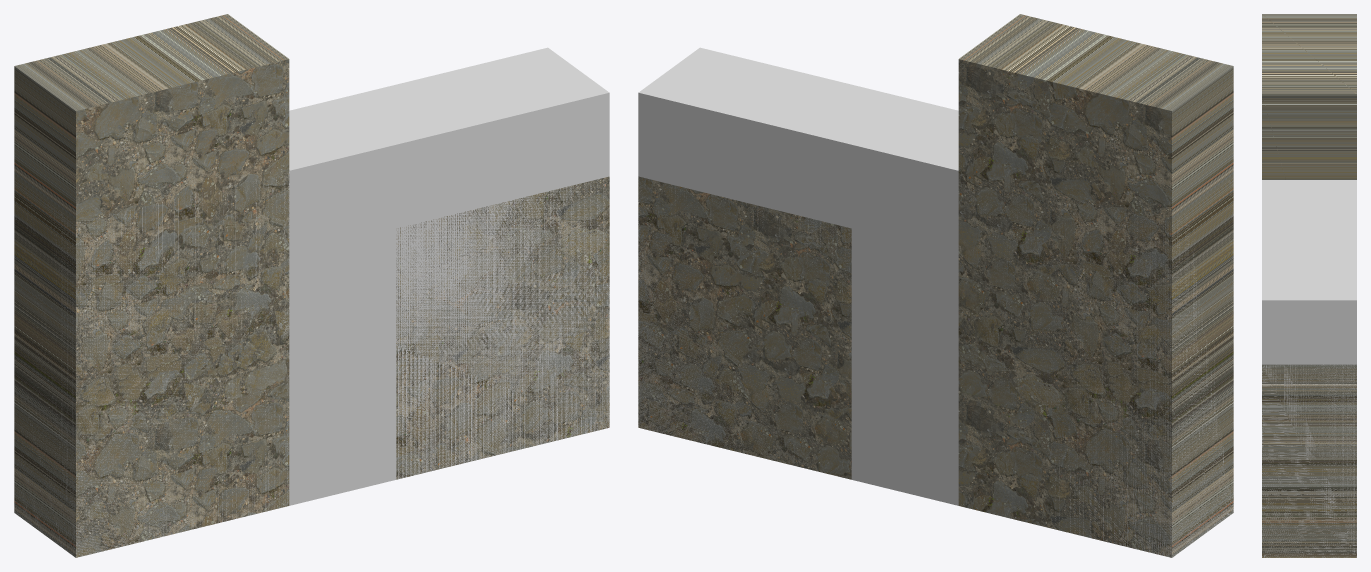
File: combat_wall_breached.glb
3 renders of one model, left to right at view 1: azimuth 30°, elevation 25°; view 2: azimuth 150°, elevation 25°; view 3: azimuth 270°, elevation 25°, orthographic. The views are drawn at different scales.
Parts seen in each view (by area): view 1: CombatWallBreached, CombatWallBreached-col; view 2: CombatWallBreached, CombatWallBreached-col; view 3: CombatWallBreached, CombatWallBreached-col.
Part boxes in pixels (<box>): CombatWallBreached: <box>14,14,609,557</box>; CombatWallBreached-col: <box>14,47,609,557</box>; CombatWallBreached: <box>638,14,1233,557</box>; CombatWallBreached-col: <box>638,47,1233,557</box>; CombatWallBreached: <box>1262,14,1356,557</box>; CombatWallBreached-col: <box>1262,180,1356,557</box>.
Size of the model in its own units: 4 by 3.2 by 0.8.
1 material, 1 textured.
